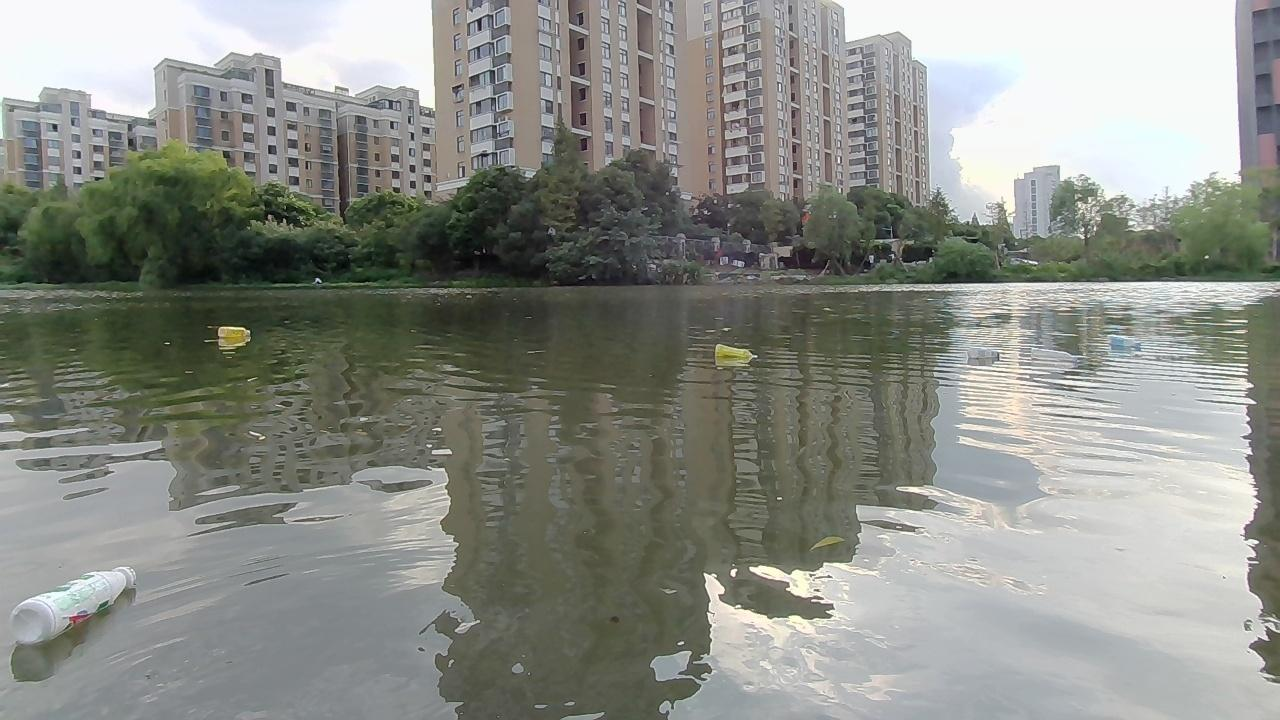bottle: (9, 555, 135, 646), (711, 340, 758, 370), (961, 342, 1006, 367), (216, 322, 252, 345), (1105, 332, 1145, 352)
